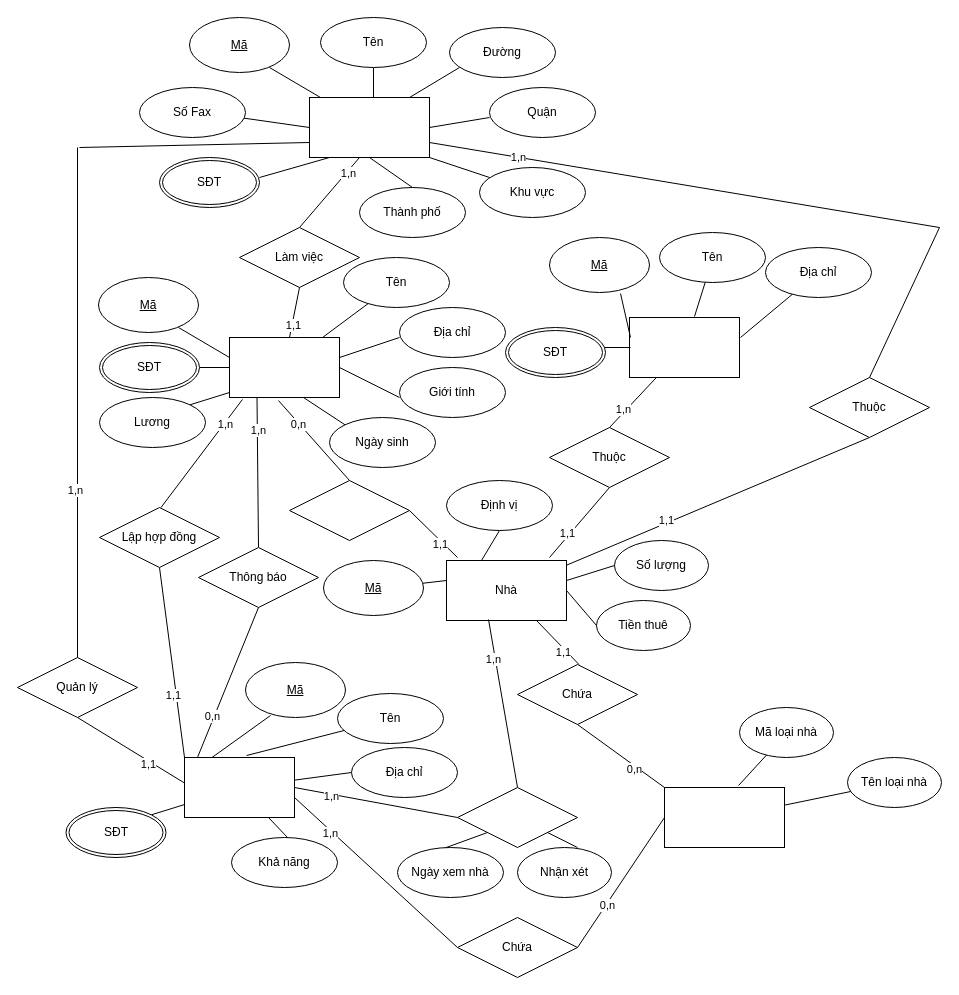
Image size: 959x995. Some labels were removed from this diagram. The centre of each missing label's shape, as x and y in pixels:
"Chi nhánh" goes at (369,127).
"Chủ nhà" goes at (684,347).
"Khách hàng" goes at (239,787).
"Loại nhà" goes at (724,817).
"Nhân viên" goes at (284,367).
"Phụ trách" goes at (349,510).
"Xem" goes at (517,817).
